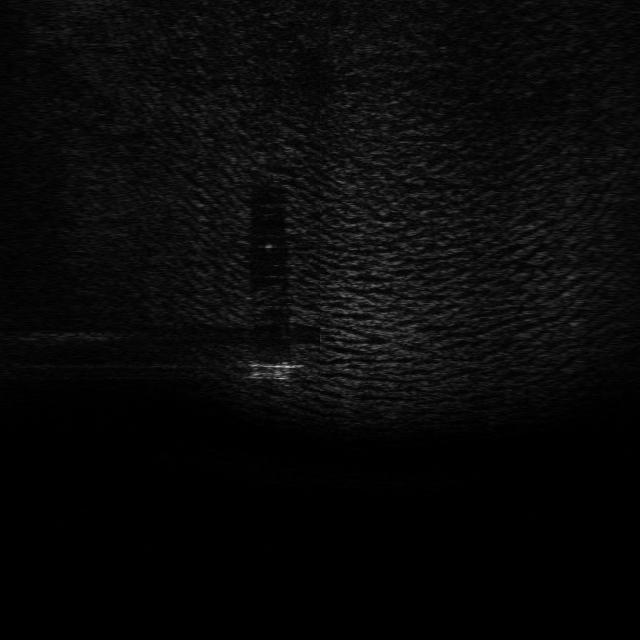cube: (246, 359, 294, 382)
